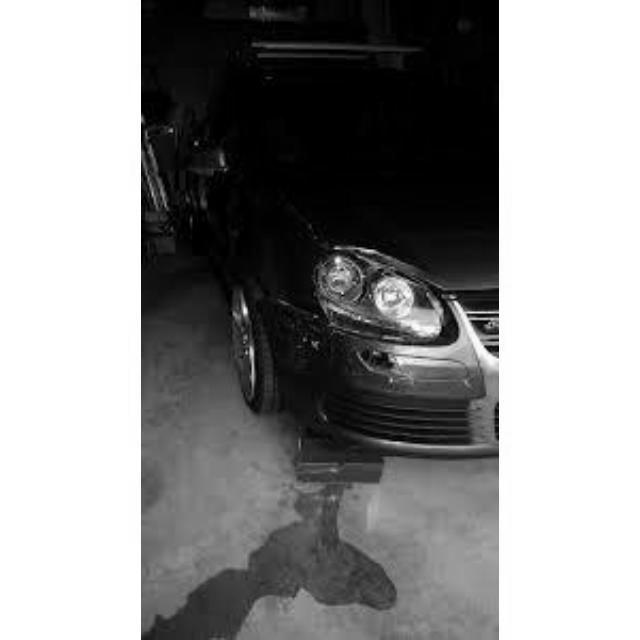Headlight-damage: (306, 242, 461, 352)
front-bumper-dent: (357, 340, 497, 455)
